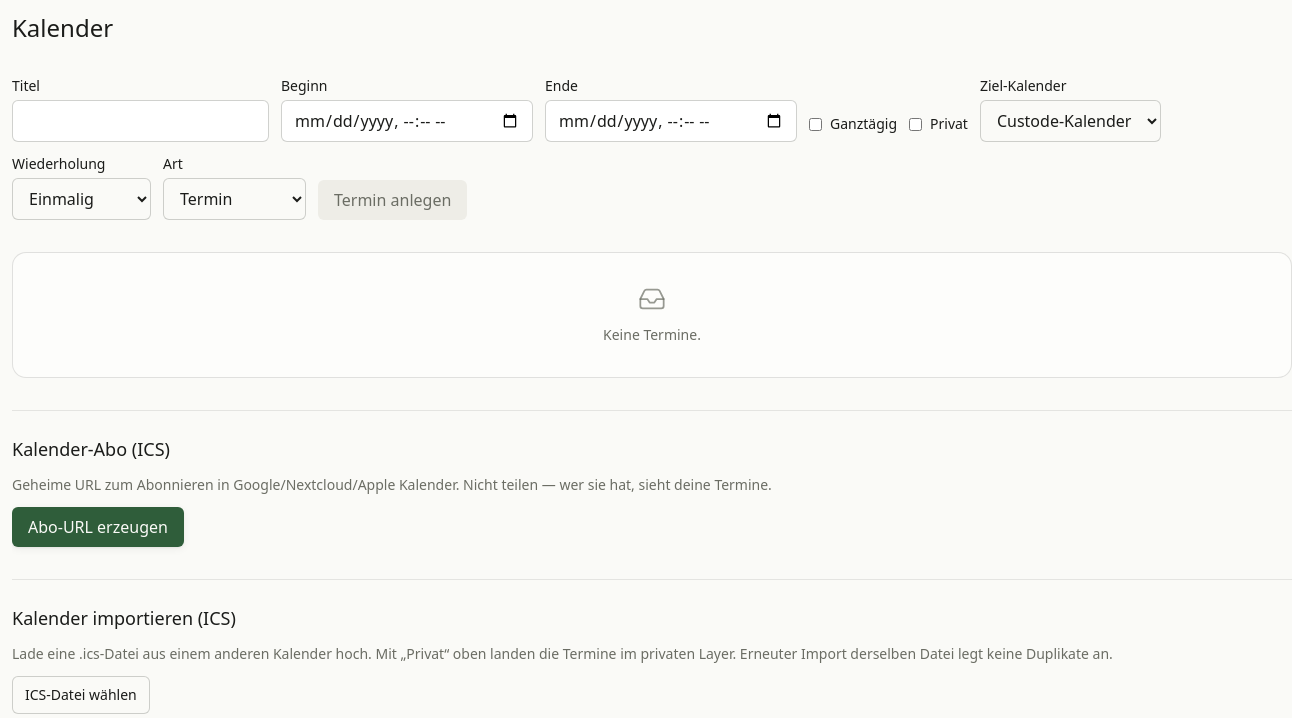
Test: a failed create keeps the input and shows the mapped error
Step 1. Type "Bleibt stehen" into the field labelled "Titel" → (140, 121), box [12,100,269,142]
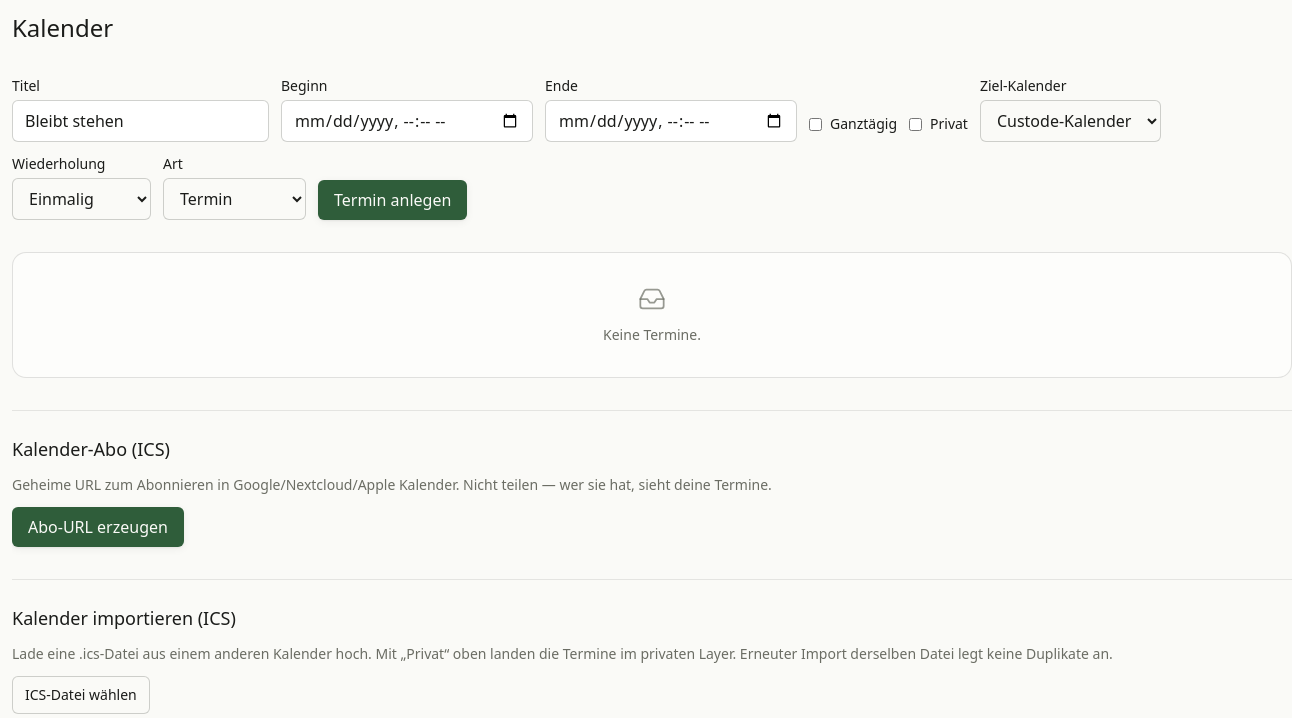
Step 2. Type "2026-08-01T09:00" into the field labelled "Beginn" → (407, 121), box [281,100,533,142]
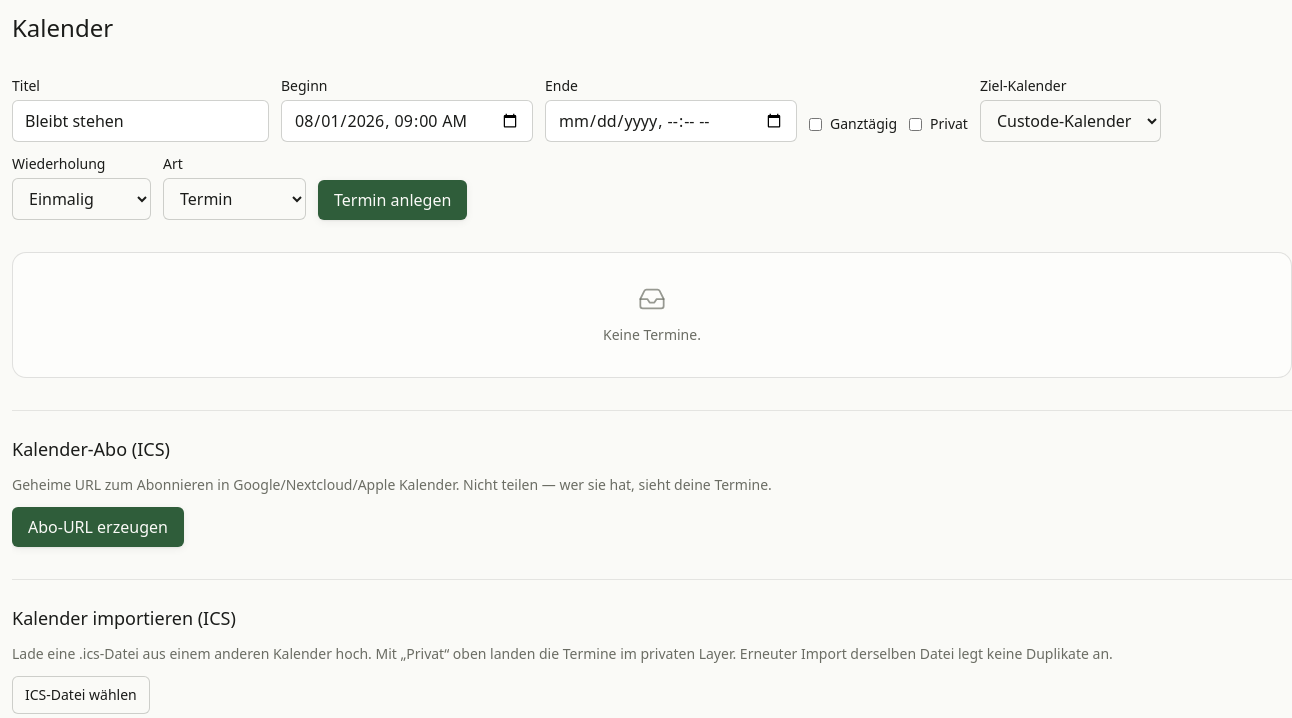
Step 3. Type "2026-08-01T10:00" into the field labelled "Ende" → (671, 121), box [545,100,797,142]
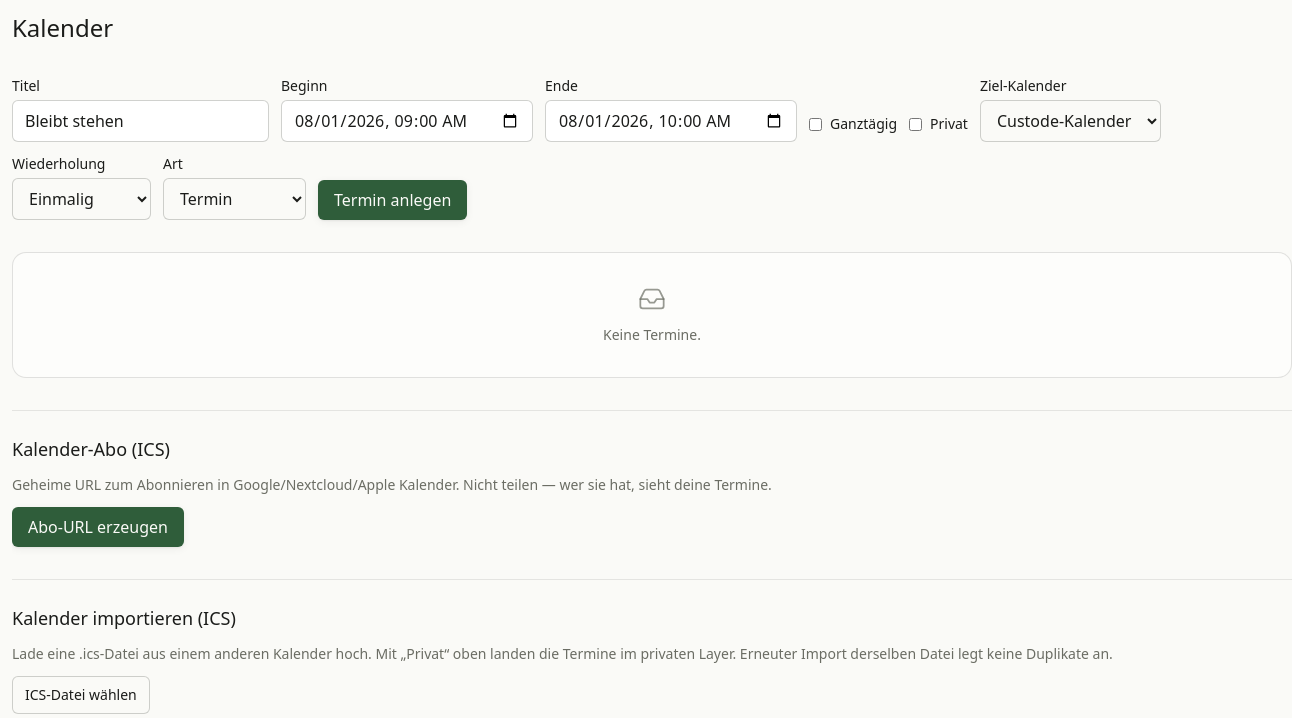
Step 4. Click the button "Termin anlegen" → (393, 200), box [318,180,467,220]
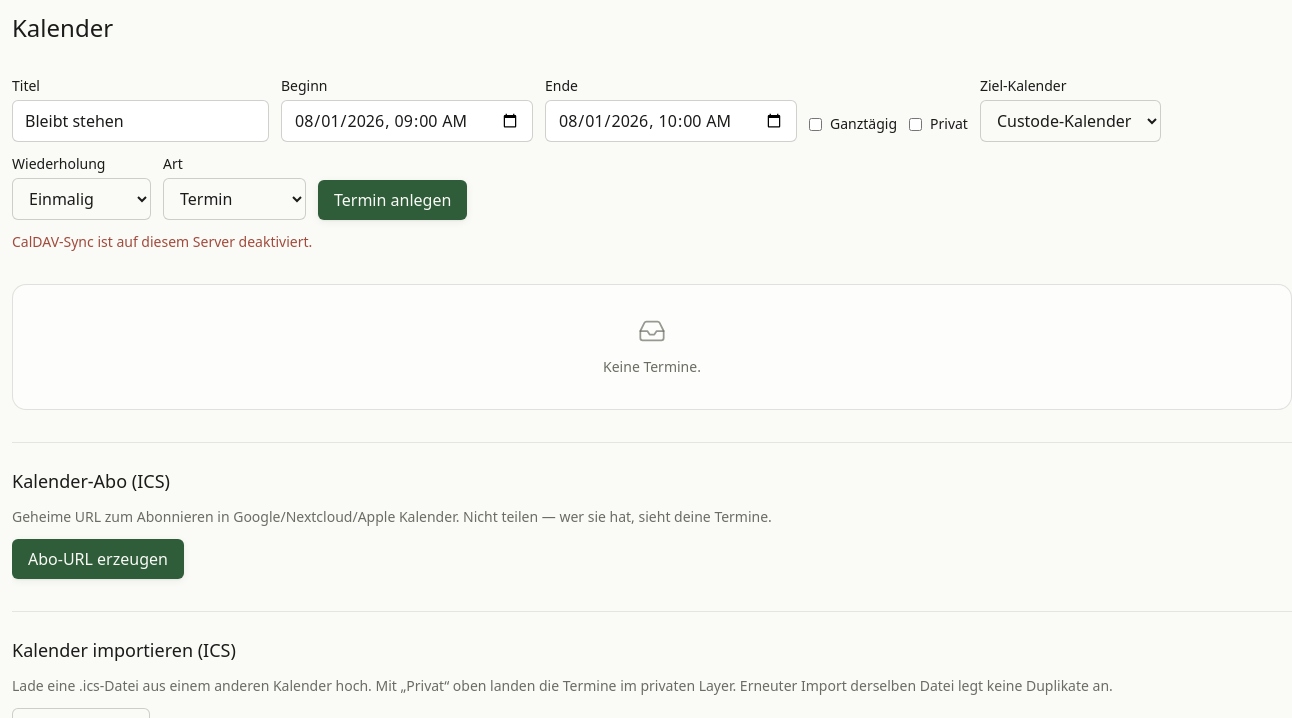
Now the message reads "CalDAV-Sync ist auf diesem Server deaktiviert.", box [12,232,312,251]
